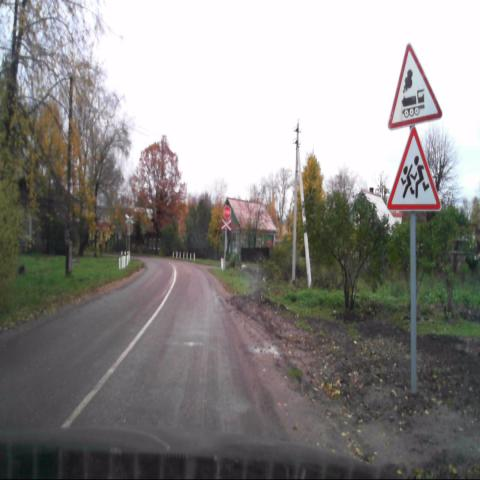1_2: (387, 42, 443, 130)
